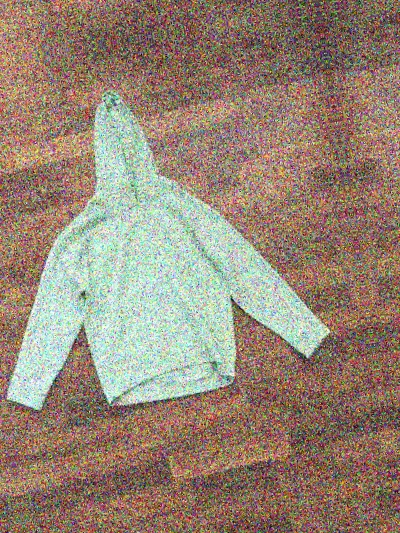Hoodie: (0, 60, 343, 431), (361, 0, 400, 367), (0, 0, 276, 21)
